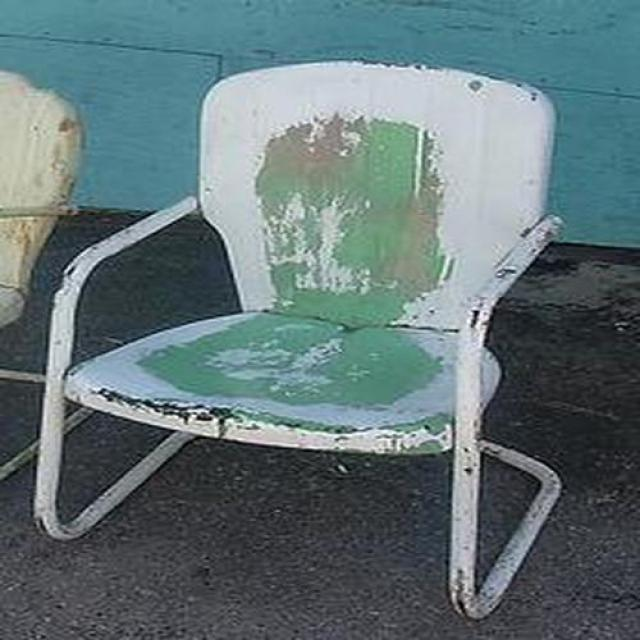chair: (35, 63, 564, 625)
